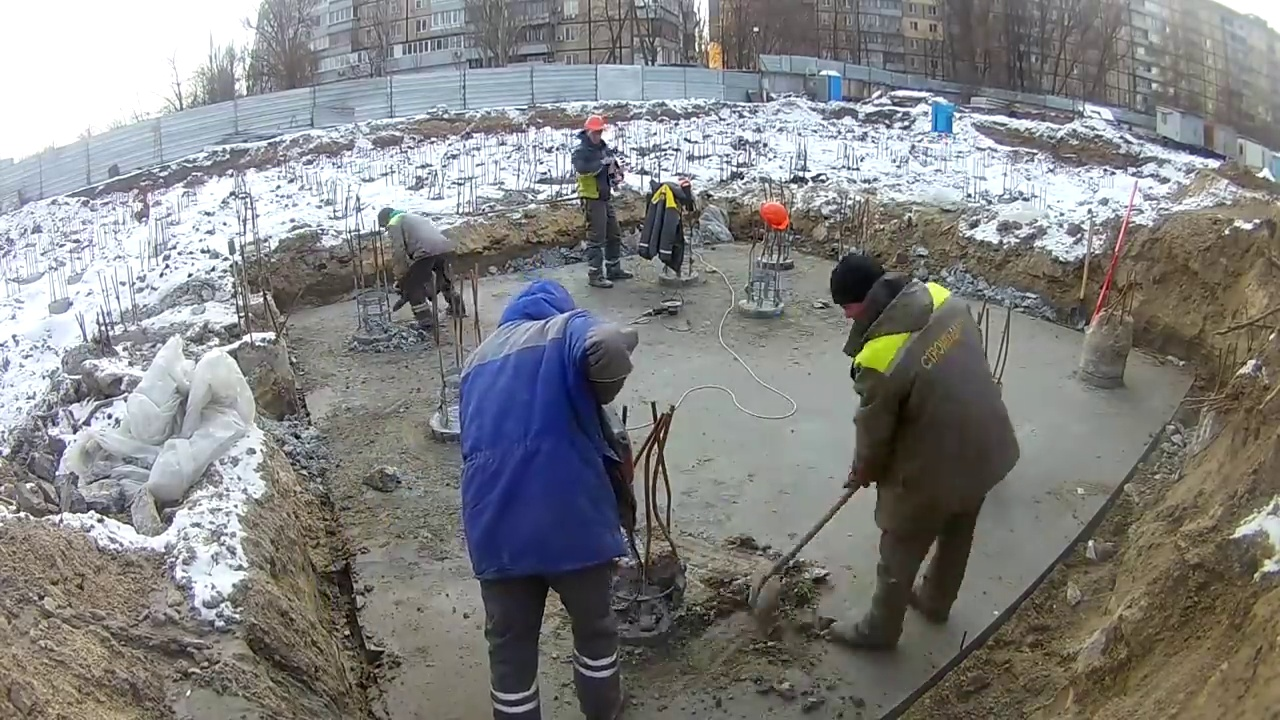helmet: (759, 202, 790, 231), (582, 115, 608, 131)
helmet-off: (831, 254, 922, 323), (511, 282, 575, 359), (376, 205, 398, 229)
helmet-on: (581, 115, 608, 144)
person: (457, 274, 664, 720), (828, 243, 1025, 663), (375, 205, 468, 332), (569, 114, 622, 293)
